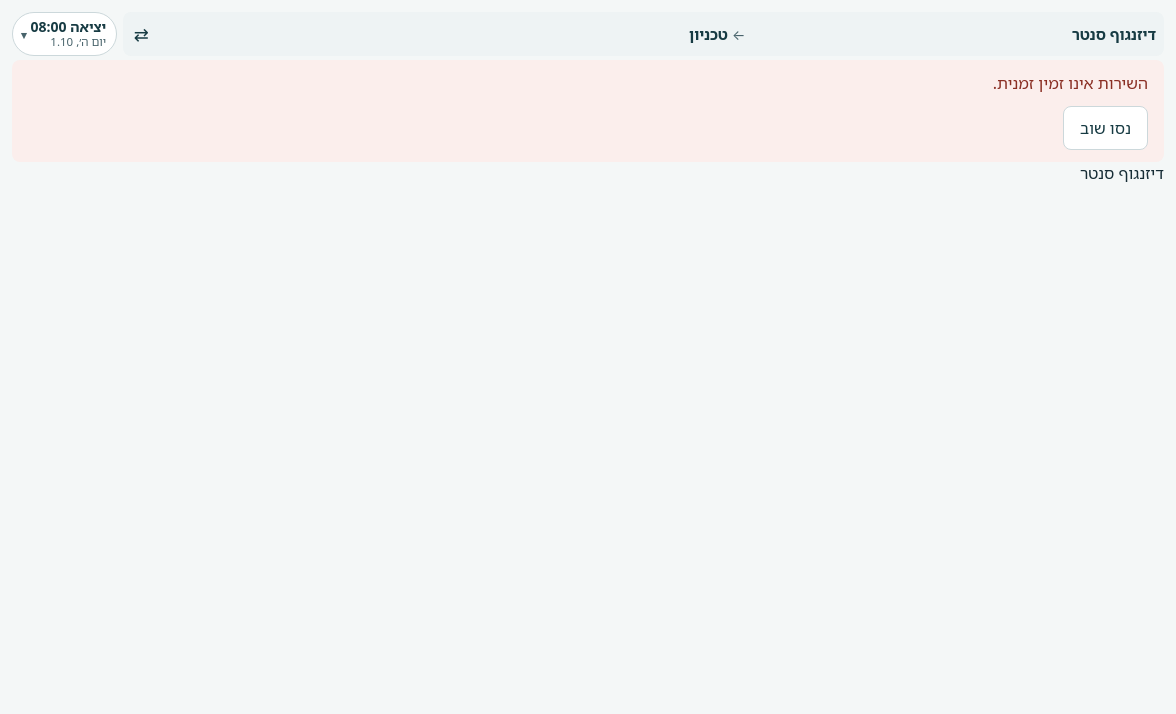
Scenario: Compare (Hebrew) › offers a retry when the service is unavailable, and the retry replaces the error
The image size is (1176, 714).
Expected: the message shows "השירות אינו זמין זמנית.", left=993, top=72, right=1148, bottom=94
What coordinates should you click on to do the following:
click the button "נסו שוב"
I would click on:
 (1106, 128)
Its box is left=1063, top=106, right=1148, bottom=150.
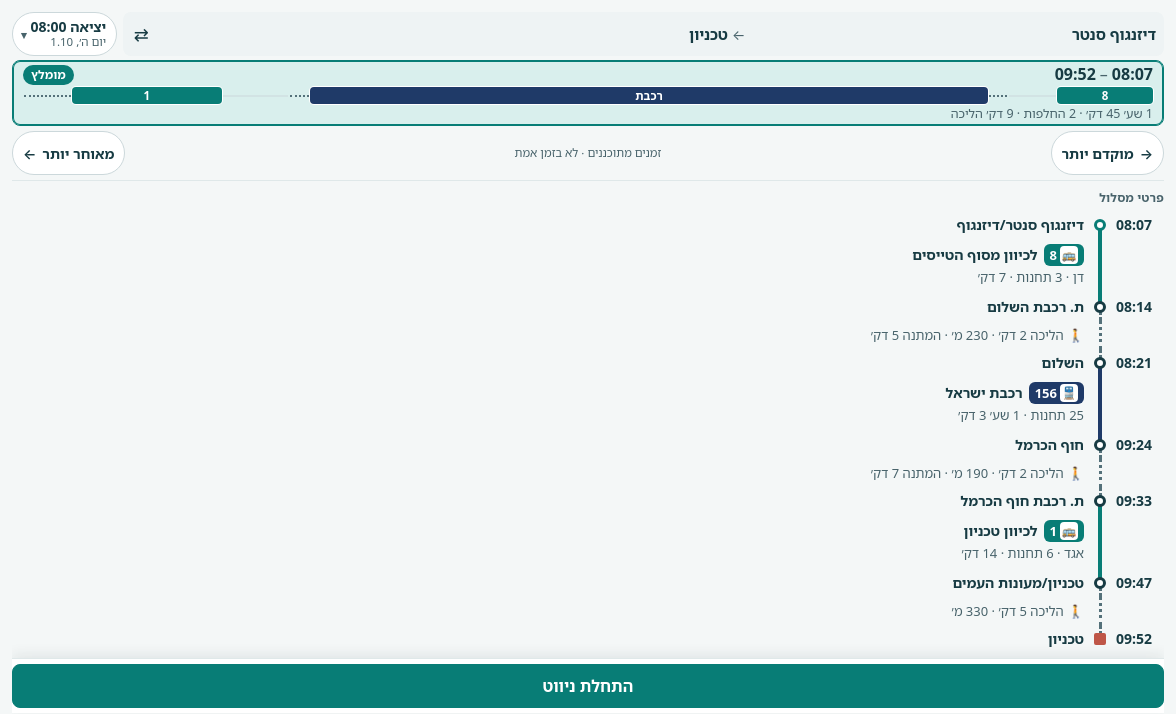
Result: the message "השירות אינו זמין זמנית. נסו שוב" is gone
